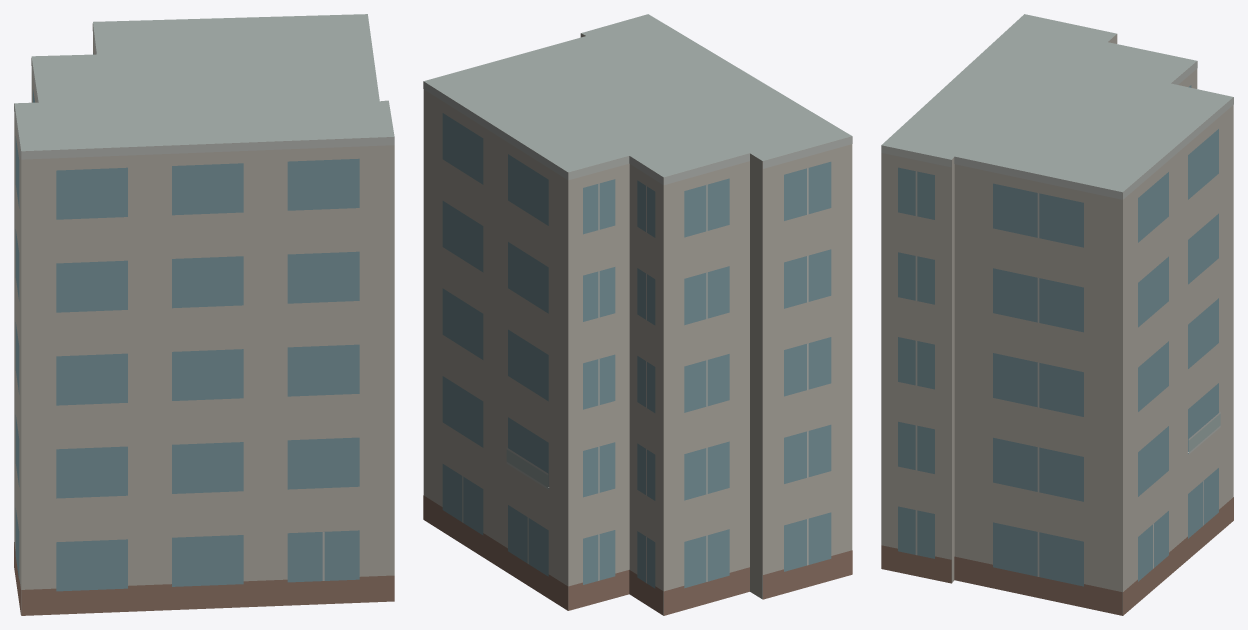
The model's file is survey-upis-32838994.glb.
3 views of the same model, side by side, from view 1: azimuth 30°, elevation 25°; view 2: azimuth 150°, elevation 25°; view 3: azimuth 270°, elevation 25° (orthographic). The views are drawn at different scales.
Parts seen in each view (by area): view 1: survey-upis-32838994.tmp; view 2: survey-upis-32838994.tmp; view 3: survey-upis-32838994.tmp.
Boxes of the visible parts, left/top/right/bottom form: survey-upis-32838994.tmp: left=14, top=14, right=394, bottom=615; survey-upis-32838994.tmp: left=423, top=14, right=852, bottom=615; survey-upis-32838994.tmp: left=881, top=14, right=1233, bottom=615.
Bounding box in the file's own units: 12.28 × 13.6 × 10.27.
